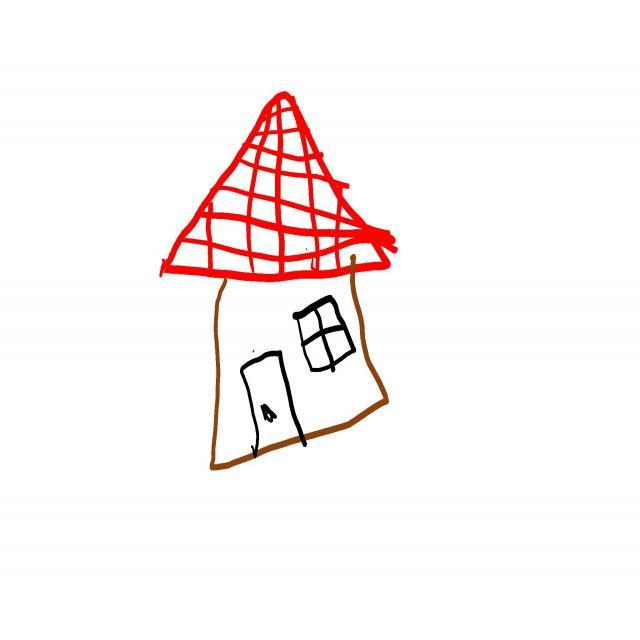door: (241, 352, 306, 458)
house: (160, 91, 397, 470)
roof: (161, 91, 397, 282)
wall: (212, 274, 388, 470)
window: (293, 296, 356, 372)
